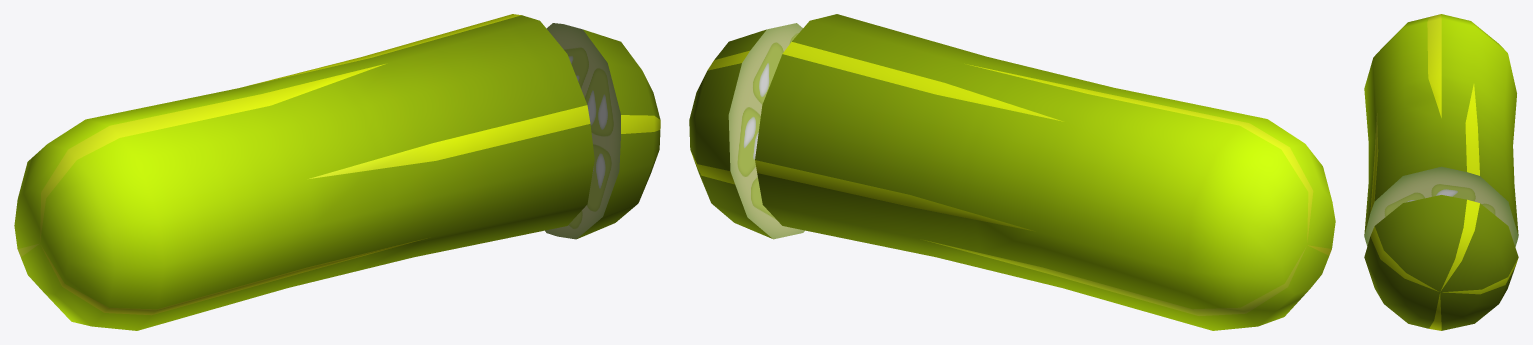
The model's file is Cucumber_01_S1.fbx.
The picture shows the model from 3 angles, left to right: view 1: azimuth 30°, elevation 25°; view 2: azimuth 150°, elevation 25°; view 3: azimuth 270°, elevation 25°; orthographic projection. The views are drawn at different scales.
Visible parts, largest first — view 1: Cucumber_01_S1; view 2: Cucumber_01_S1; view 3: Cucumber_01_S1.
Part boxes in pixels (x1,y1,x2,y2): Cucumber_01_S1: (14, 14, 660, 330); Cucumber_01_S1: (689, 14, 1335, 330); Cucumber_01_S1: (1364, 14, 1518, 330).
Bounding box in the file's own units: 125 × 42.58 × 39.51.
